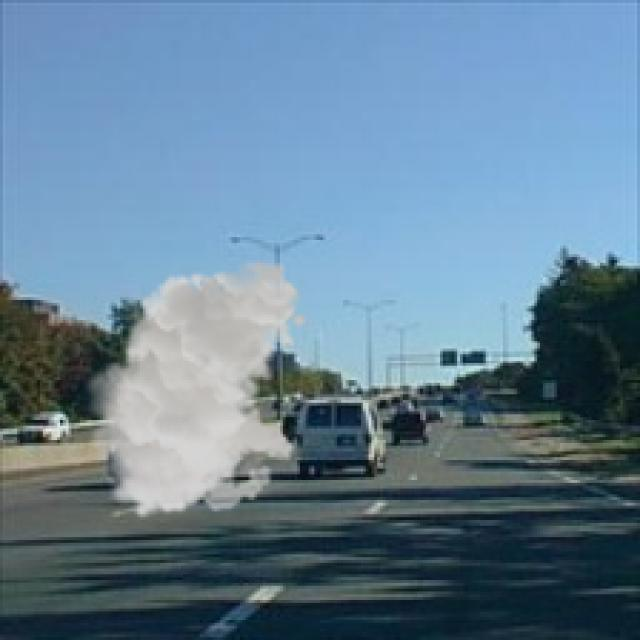Smoke: (80, 260, 309, 520)
